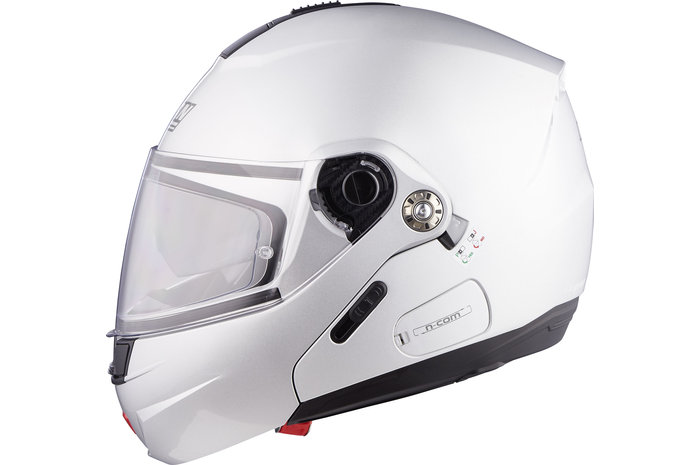with_helmet: (96, 2, 609, 465)
